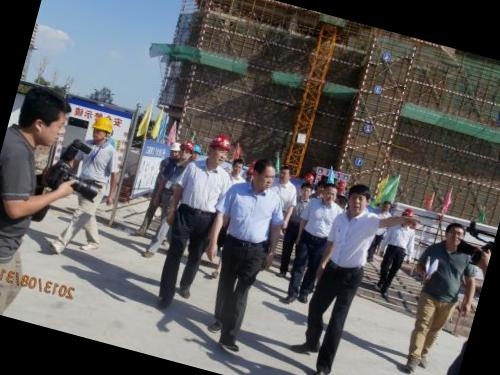no_helmet: (12, 80, 76, 152), (245, 154, 281, 194), (340, 179, 374, 220), (440, 219, 474, 253), (319, 181, 340, 204), (275, 164, 296, 186), (230, 154, 247, 180), (297, 181, 316, 202)
